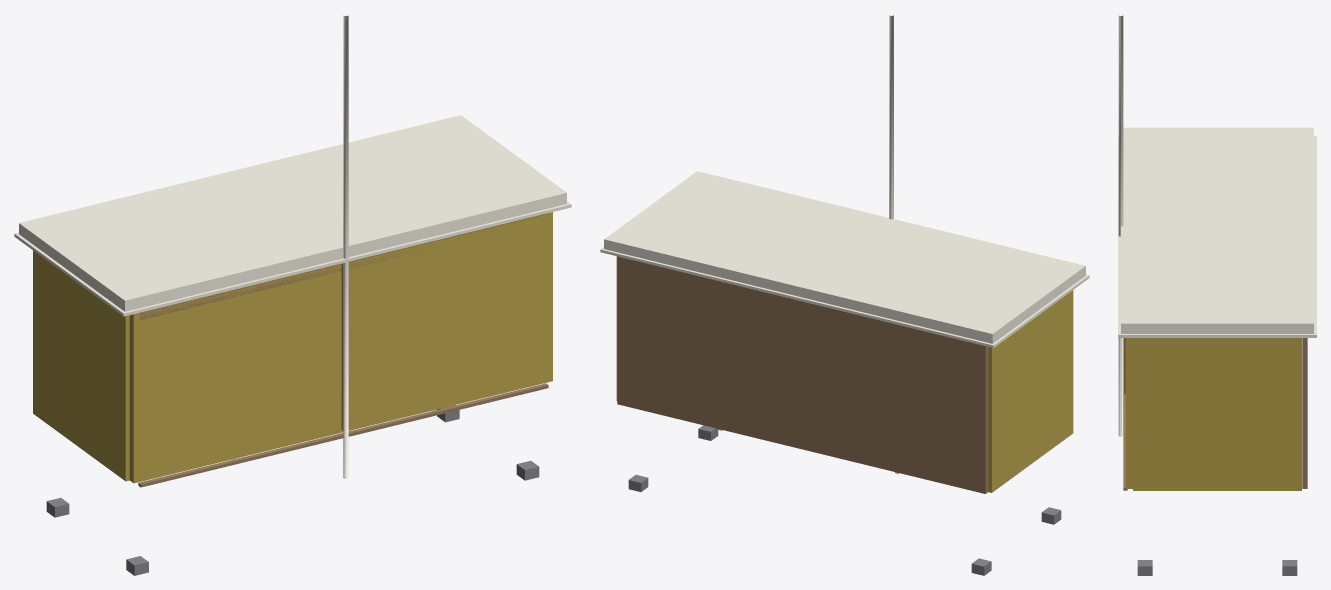
File: counter.glb
3 views of the same model, side by side, from view 1: azimuth 30°, elevation 25°; view 2: azimuth 150°, elevation 25°; view 3: azimuth 270°, elevation 25° (orthographic). The views are drawn at different scales.
Parts seen in each view (by area): view 1: front_panel, top, side_panels, top_bevel, top_nose, front_molding_bot, apron, feet; view 2: back_panel, top, side_panels, top_bevel, feet, top_nose; view 3: top, side_panels, top_nose, top_bevel, front_panel, back_panel, feet, front_molding_bot.
Part boxes in pixels (bbox=[...]): front_panel: bbox=[129, 212, 552, 483]; top: bbox=[19, 115, 566, 311]; side_panels: bbox=[33, 250, 129, 481]; top_bevel: bbox=[14, 201, 571, 316]; top_nose: bbox=[343, 15, 348, 478]; front_molding_bot: bbox=[138, 383, 548, 487]; apron: bbox=[139, 244, 446, 320]; feet: bbox=[46, 405, 539, 575]; back_panel: bbox=[617, 256, 988, 493]; top: bbox=[604, 171, 1085, 343]; side_panels: bbox=[616, 256, 1073, 492]; top_bevel: bbox=[600, 247, 1089, 347]; feet: bbox=[628, 425, 1061, 575]; top_nose: bbox=[889, 15, 893, 219]; top: bbox=[1121, 127, 1313, 333]; side_panels: bbox=[1133, 338, 1301, 490]; top_nose: bbox=[1118, 15, 1123, 436]; top_bevel: bbox=[1118, 136, 1316, 337]; front_panel: bbox=[1126, 338, 1132, 488]; back_panel: bbox=[1302, 338, 1307, 488]; feet: bbox=[1137, 560, 1297, 575]; front_molding_bot: bbox=[1123, 338, 1127, 490].
Size of the model in its own units: 1.56 by 1.73 by 0.66.
